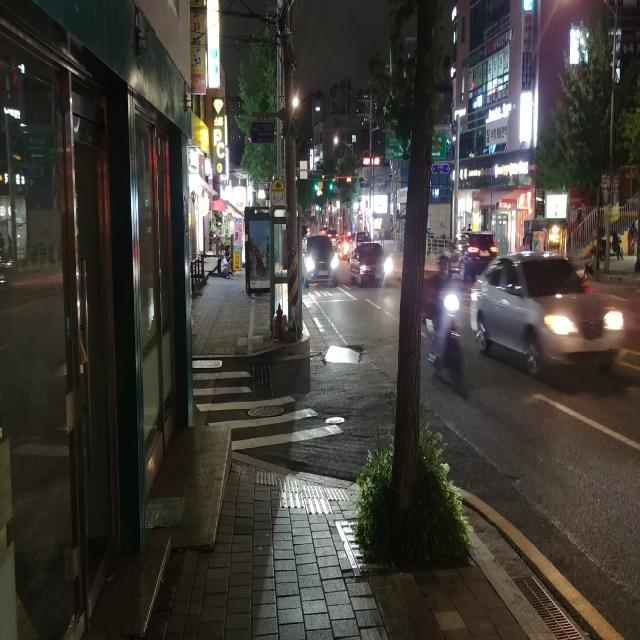횡단보도: (192, 368, 345, 453)
